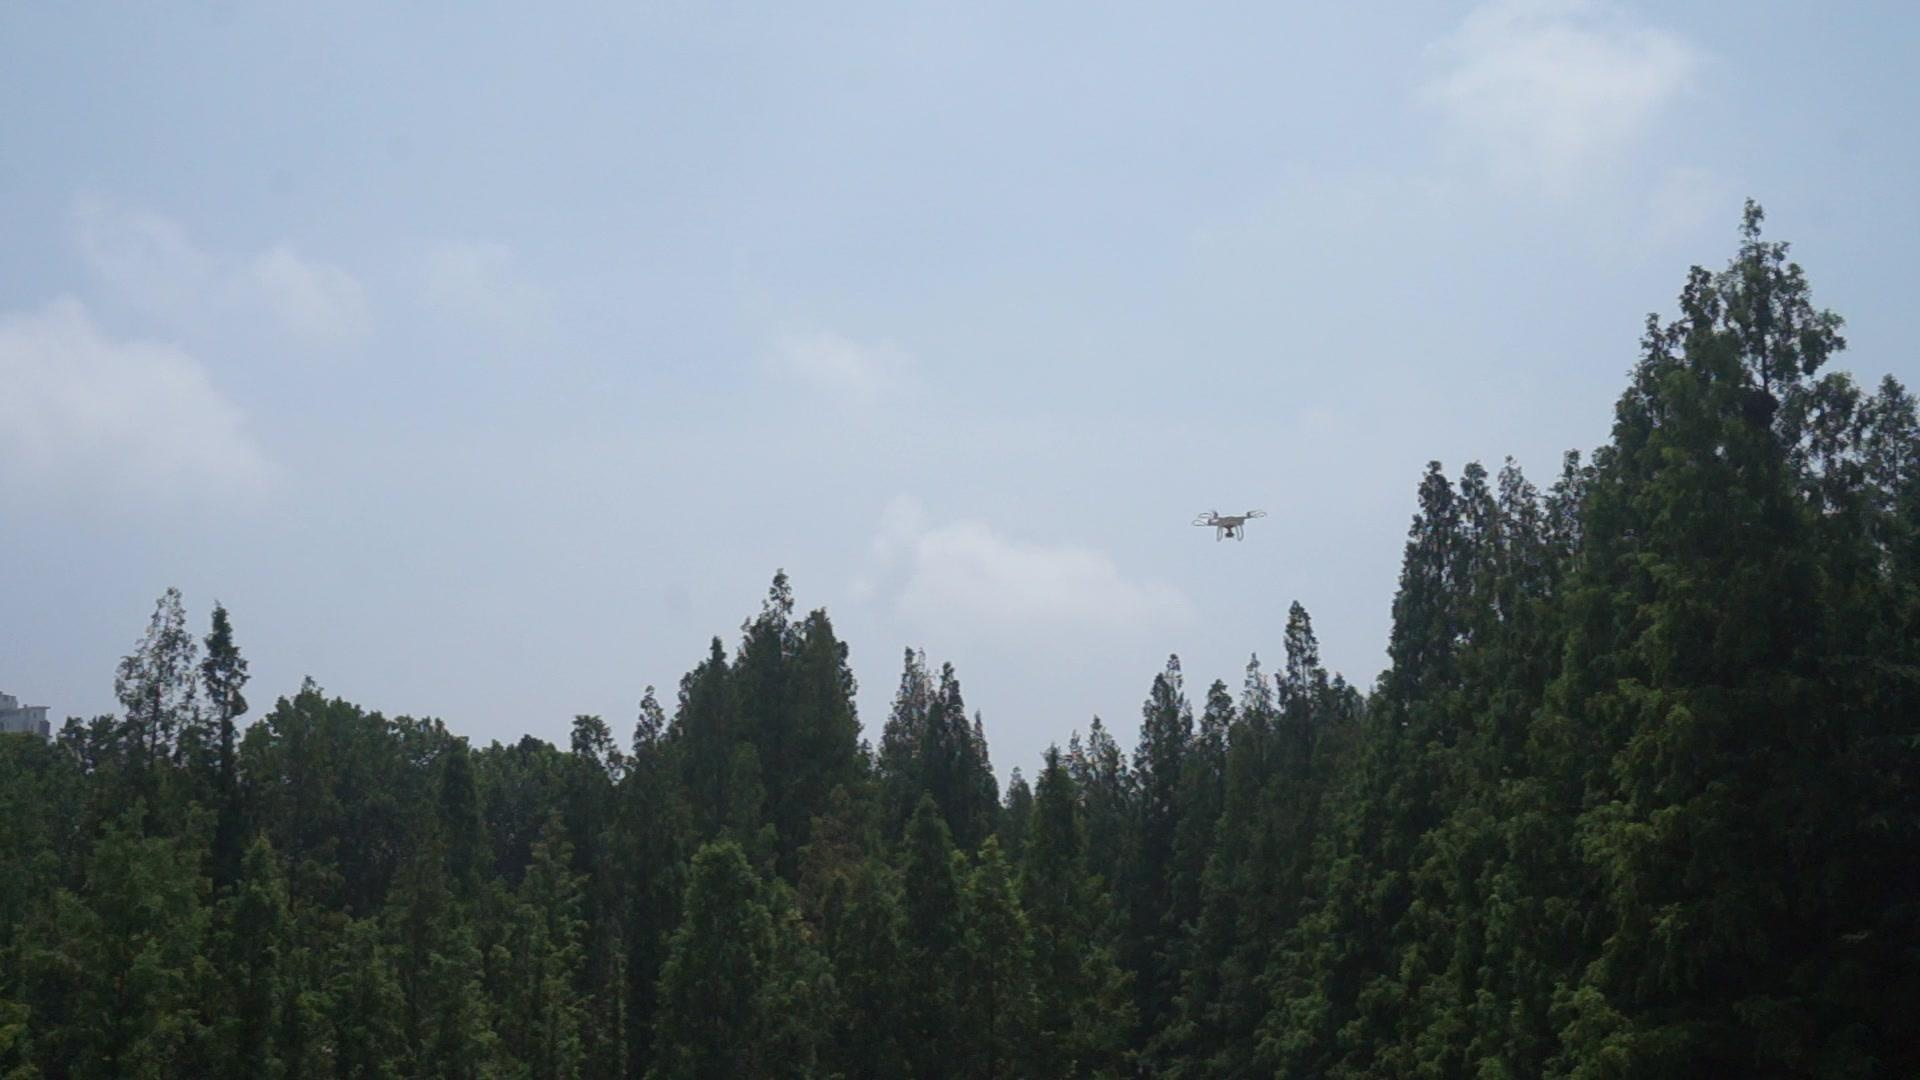UAV: (1193, 510, 1269, 543)
